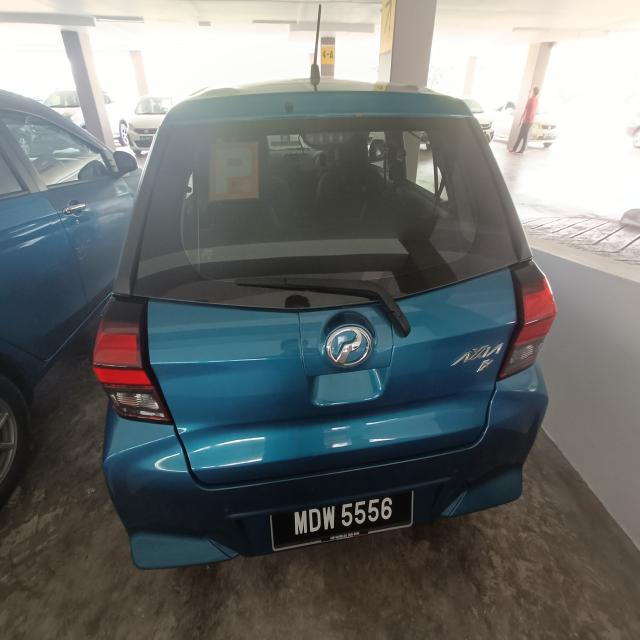PeroduaAxia: (92, 73, 557, 570)
